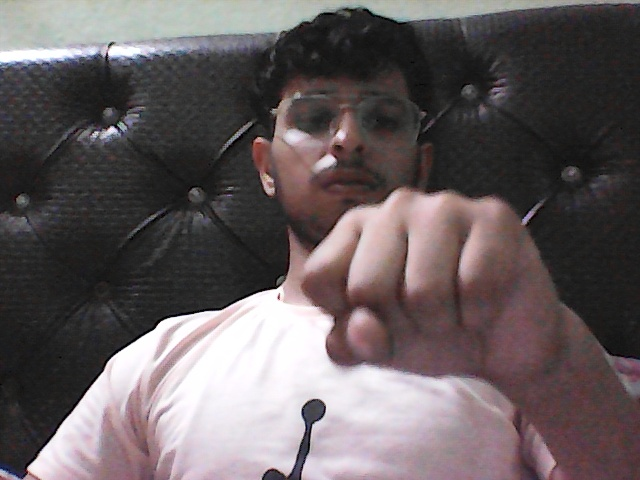yes: (278, 169, 571, 422)
